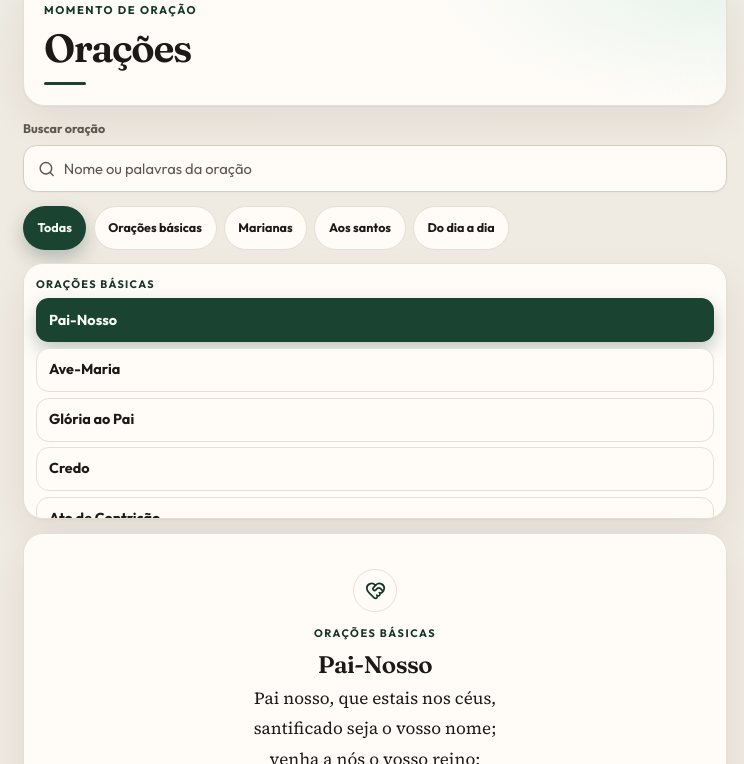
Test: PrayersPage › filters by category and by words inside the prayer
Click the button "Marianas".
click(266, 228)  # box [224,206,307,250]
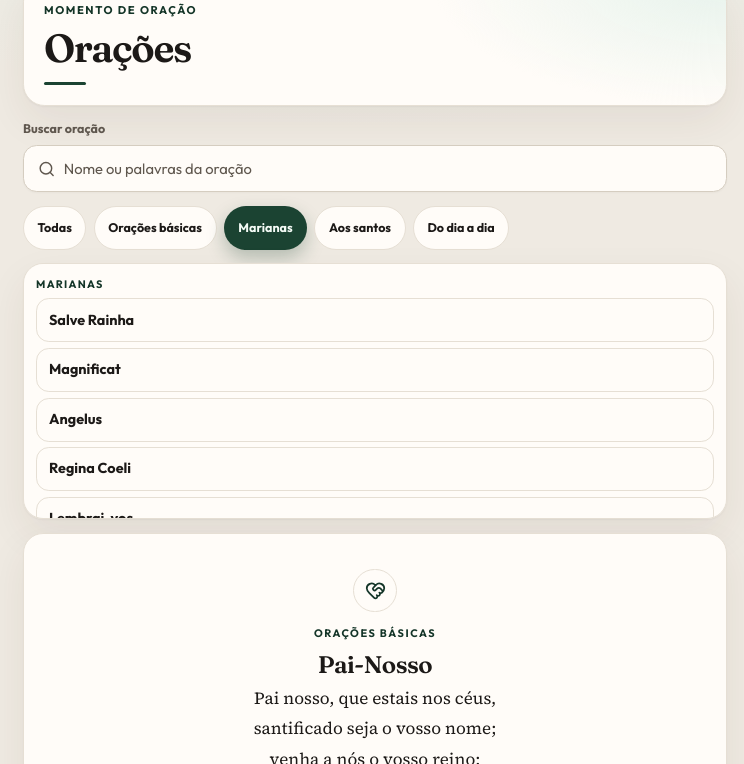
Check: the button "Marianas" is pressed, box [224,206,307,250]
Type "vale de lágrimas" into the search field labelled "Buscar oração".
click(388, 169); type("vale de lágrimas")  # box [64,146,712,191]
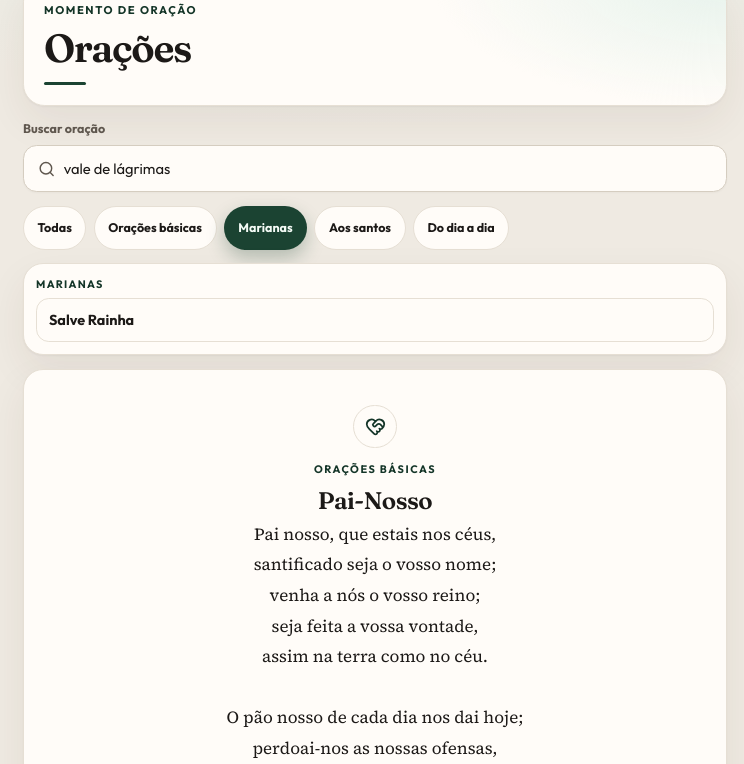
Click the button "Salve Rainha".
click(92, 320)  # box [36,298,714,342]
(page scrolled)
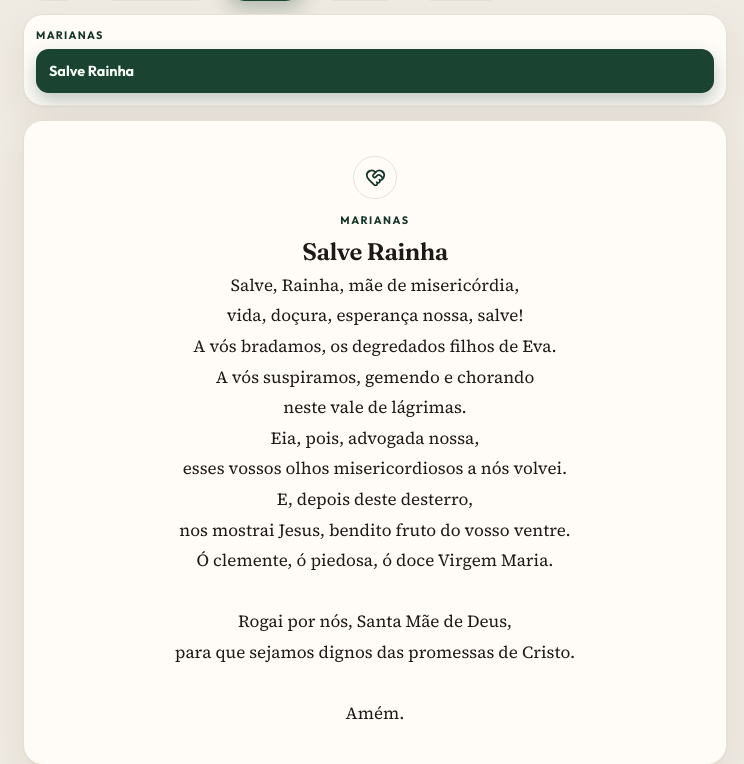
Check: the text "mãe de misericórdia" is shown, box [175,273,575,725]
Check: the text "ó doce Virgem Maria" is shown, box [175,273,575,725]
